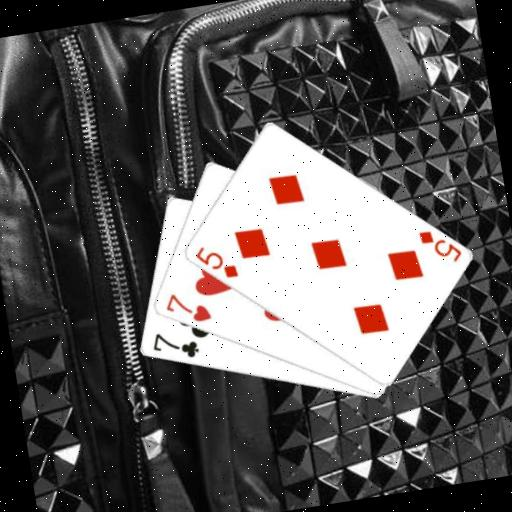5D: (190, 238, 241, 285), (414, 223, 464, 269)
7C: (146, 324, 201, 365)
7H: (159, 285, 213, 329)
